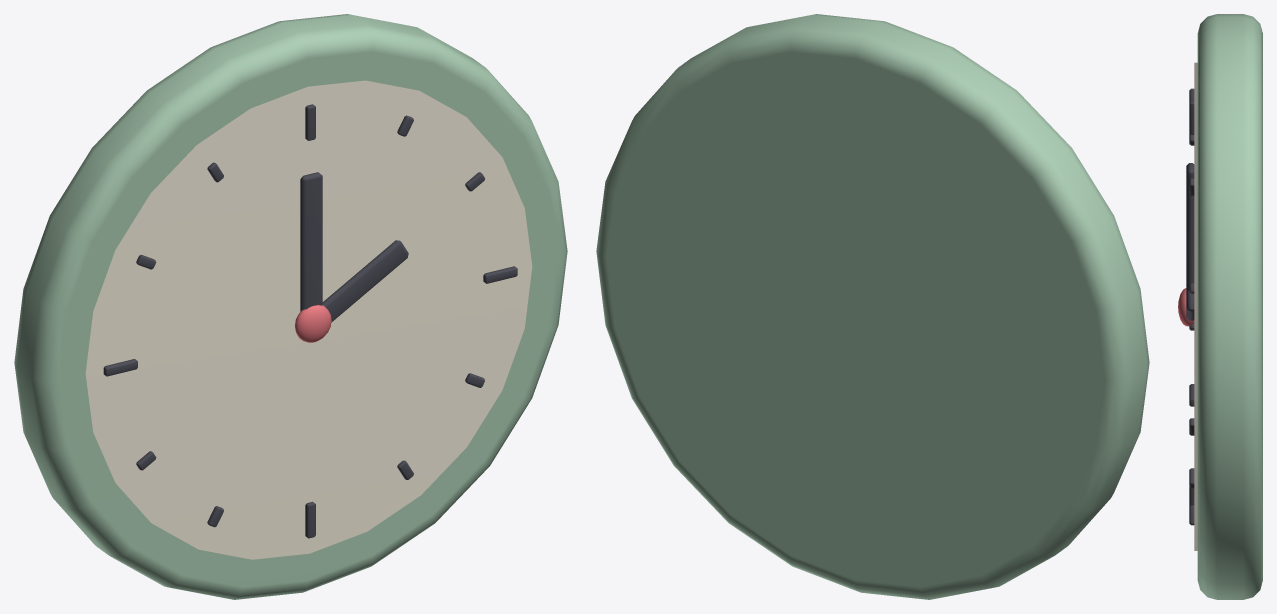
File: prop_clock.glb
3 views of the same model, side by side, from view 1: azimuth 30°, elevation 25°; view 2: azimuth 150°, elevation 25°; view 3: azimuth 270°, elevation 25° (orthographic). The views are drawn at different scales.
Parts seen in each view (by area): view 1: prop_clock; view 2: prop_clock; view 3: prop_clock.
Boxes of the visible parts, x1,y1,x2,y2 form: prop_clock: [14, 14, 567, 599]; prop_clock: [596, 14, 1149, 599]; prop_clock: [1178, 14, 1262, 599].
Size of the model in its own units: 0.45 by 0.45 by 0.065.
